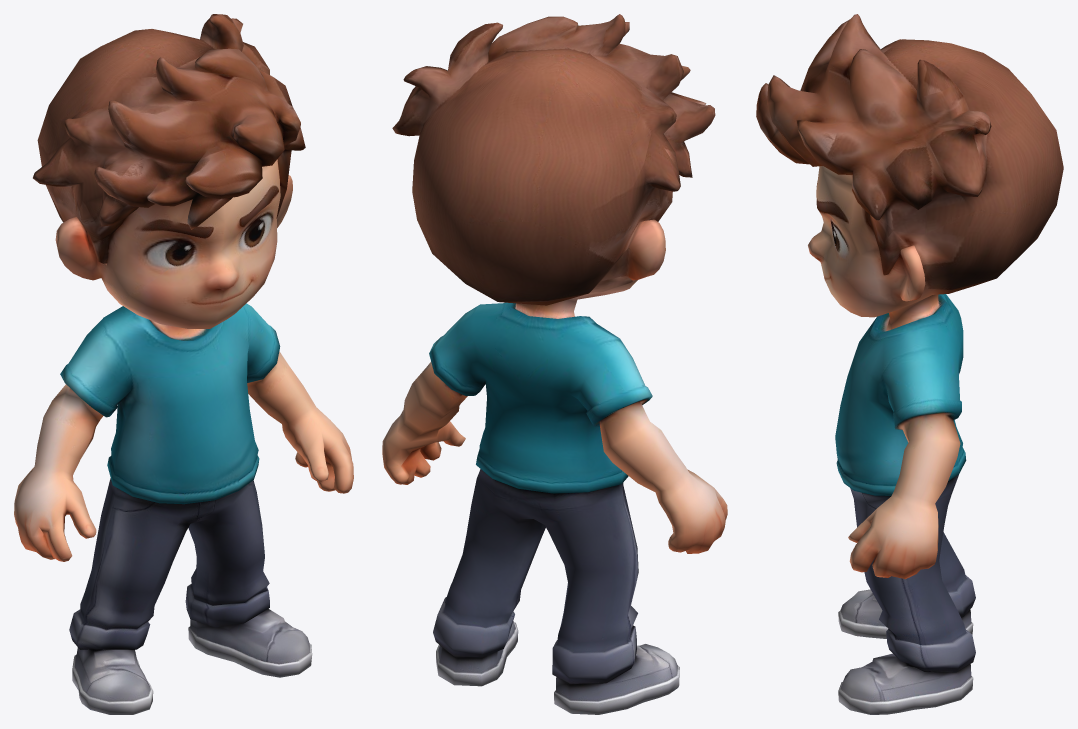
The model's file is character.glb.
3 views of the same model, side by side, from view 1: azimuth 30°, elevation 25°; view 2: azimuth 150°, elevation 25°; view 3: azimuth 270°, elevation 25° (orthographic). The views are drawn at different scales.
Parts seen in each view (by area): view 1: tripo_node_a1306919; view 2: tripo_node_a1306919; view 3: tripo_node_a1306919.
Boxes of the visible parts, x1=… form: tripo_node_a1306919: x1=14, y1=14, x2=353, y2=714; tripo_node_a1306919: x1=382, y1=14, x2=727, y2=714; tripo_node_a1306919: x1=756, y1=14, x2=1063, y2=714.
Bounding box in the file's own units: 0.5278 × 0.9995 × 0.4448.
1 material, 1 textured.
